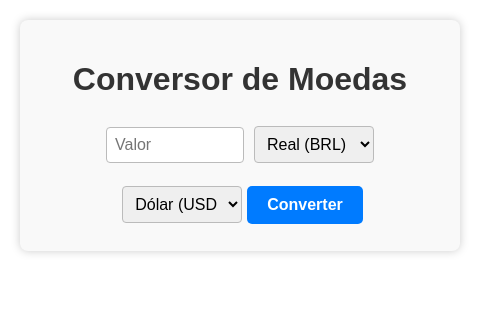
Testes do Conversor de Moedas › 7 - Converte EUR para BRL corretamente
This screenshot has width=481, height=336.
In the field with test id "input-amount": (175, 145) [106,127,244,163], type "3"
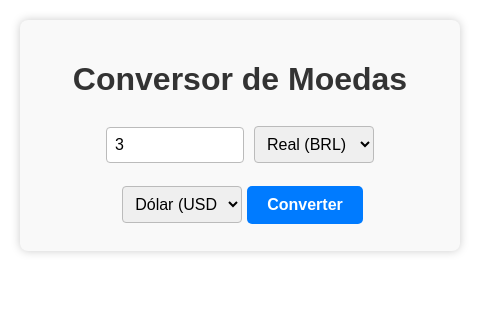
Select "Euro (EUR)" in the dropdown with test id "select-from": (314, 145) [254,126,374,163]
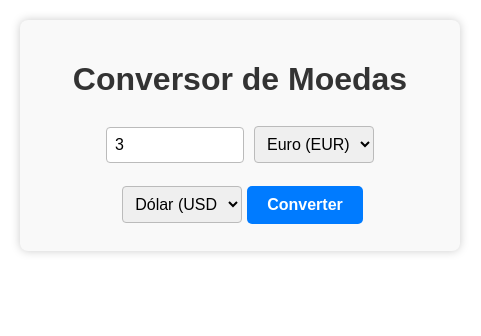
Select "Real (BRL)" in the dropdown with test id "select-to": (182, 205) [122,186,242,223]
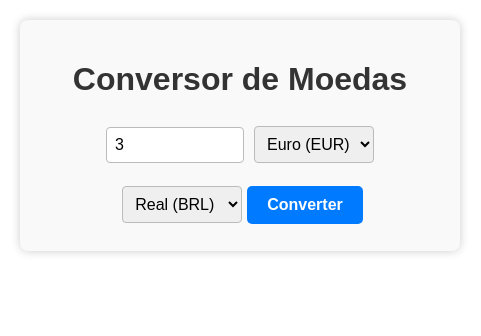
Click the button with test id "btn-convert": (305, 205) [247,186,363,224]
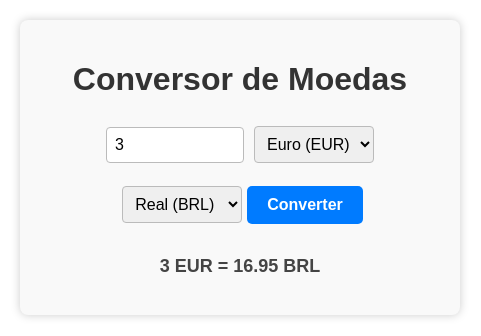
Expected: the text with test id "result" reads "3 EUR = 16.95 BRL", [160,256,320,276]
